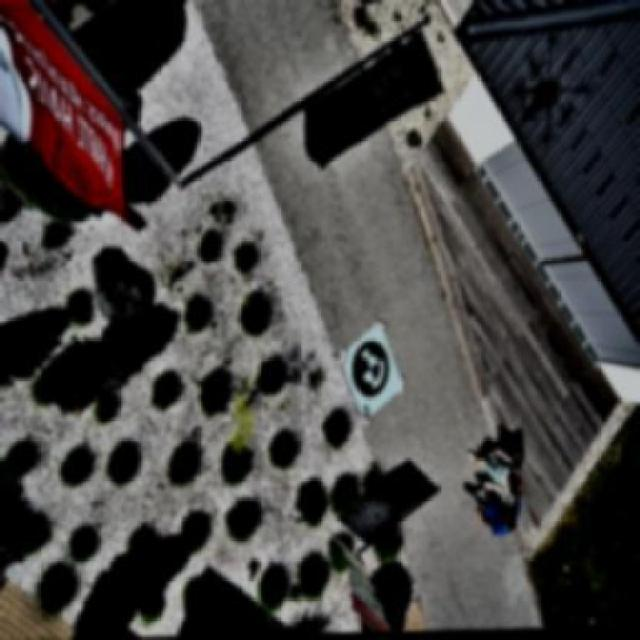Person: (456, 443, 542, 499), (456, 496, 529, 542)
